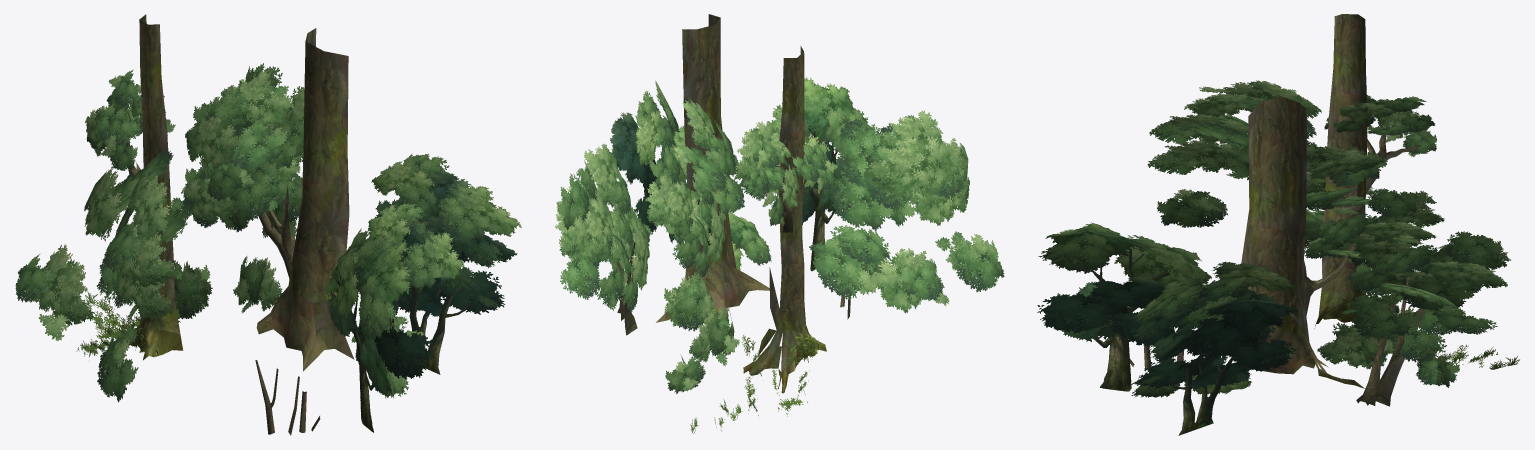
File: shu_18.FBX
3 views of the same model, side by side, from view 1: azimuth 30°, elevation 25°; view 2: azimuth 150°, elevation 25°; view 3: azimuth 270°, elevation 25° (orthographic). The views are drawn at different scales.
Visible parts, largest first — view 1: shu_03; view 2: shu_03; view 3: shu_03.
Part boxes in pixels (x1,y1,x2,y2): shu_03: (15,14,521,435); shu_03: (555,14,1004,433); shu_03: (1037,14,1519,435).
Size of the model in its own units: 10.54 by 8.82 by 11.24.
